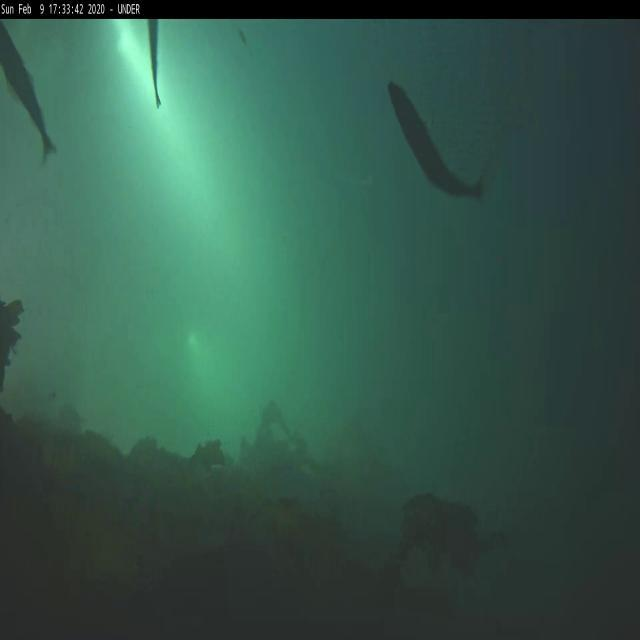fish: (386, 81, 484, 205), (2, 20, 54, 163), (144, 20, 162, 117)
